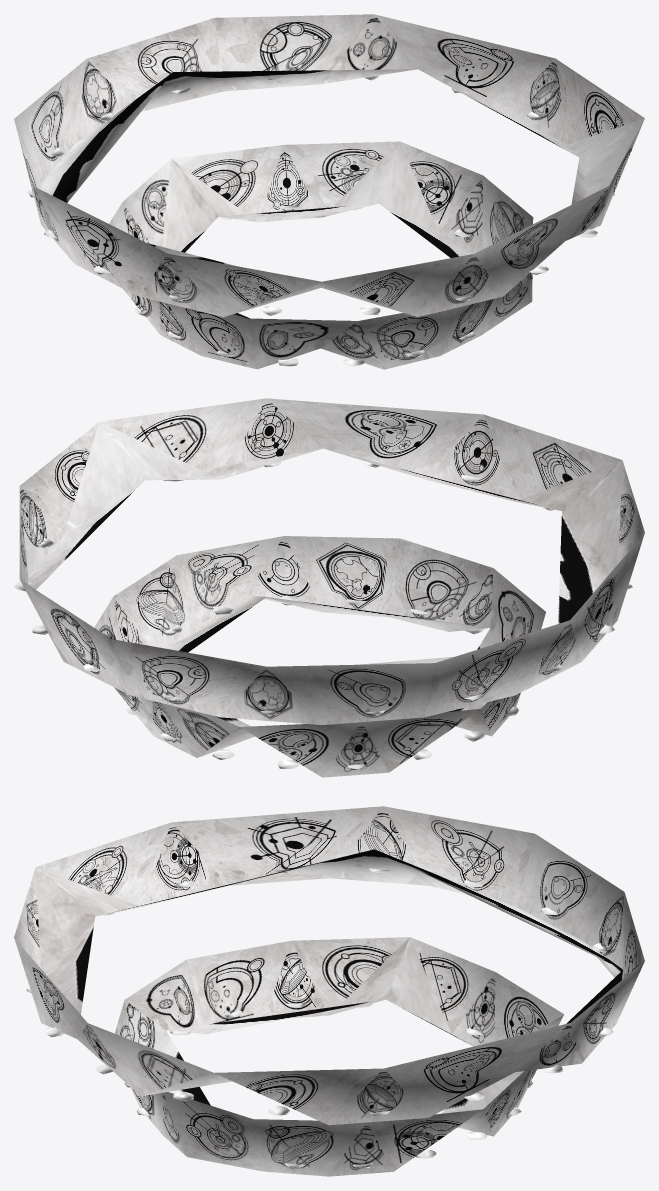
Rendered from rotor_spinners.obj.
The picture shows the model from 3 angles, top to bottom: view 1: azimuth 30°, elevation 25°; view 2: azimuth 150°, elevation 25°; view 3: azimuth 270°, elevation 25°; orthographic projection. The views are drawn at different scales.
Parts seen in each view (by area): view 1: 6.Rotor_Spinners; view 2: 6.Rotor_Spinners; view 3: 6.Rotor_Spinners.
Part boxes in pixels (bbox=[...]): 6.Rotor_Spinners: bbox=[14, 14, 644, 369]; 6.Rotor_Spinners: bbox=[14, 398, 644, 777]; 6.Rotor_Spinners: bbox=[14, 806, 644, 1176].
Size of the model in its own units: 4.79 by 1.33 by 4.81.
1 material, 1 textured.
